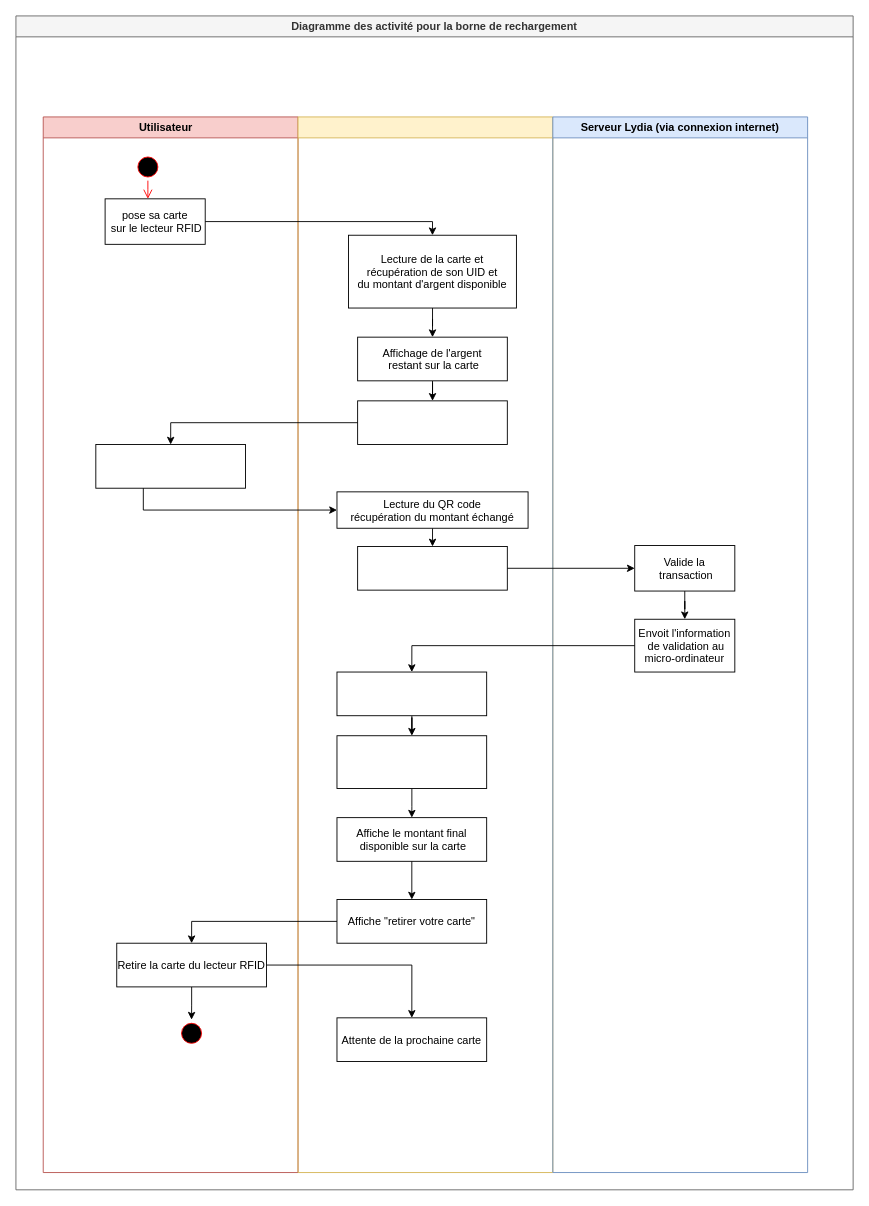
Some shapes in this 869 by 1206 pixel diagram are drawn without their labels. The shapes that lost their labels are listed below. From the top down, each one's box as (x1, y1, x2, y2) in pixels, then its label:
(357, 400, 507, 445): Affichage des instructions de rechargement par Lydia
(95, 444, 246, 488): présente le Qr code Lydia de X € à la caméra
(357, 546, 507, 590): Envoie les informations de paiement à pour valider la transaction
(297, 116, 553, 1173): Micro-Ordinateur
(336, 671, 487, 716): Inscrit la transaction dans la base de données
(336, 735, 487, 789): Change le montant disponible pour la carte dans la base de données
